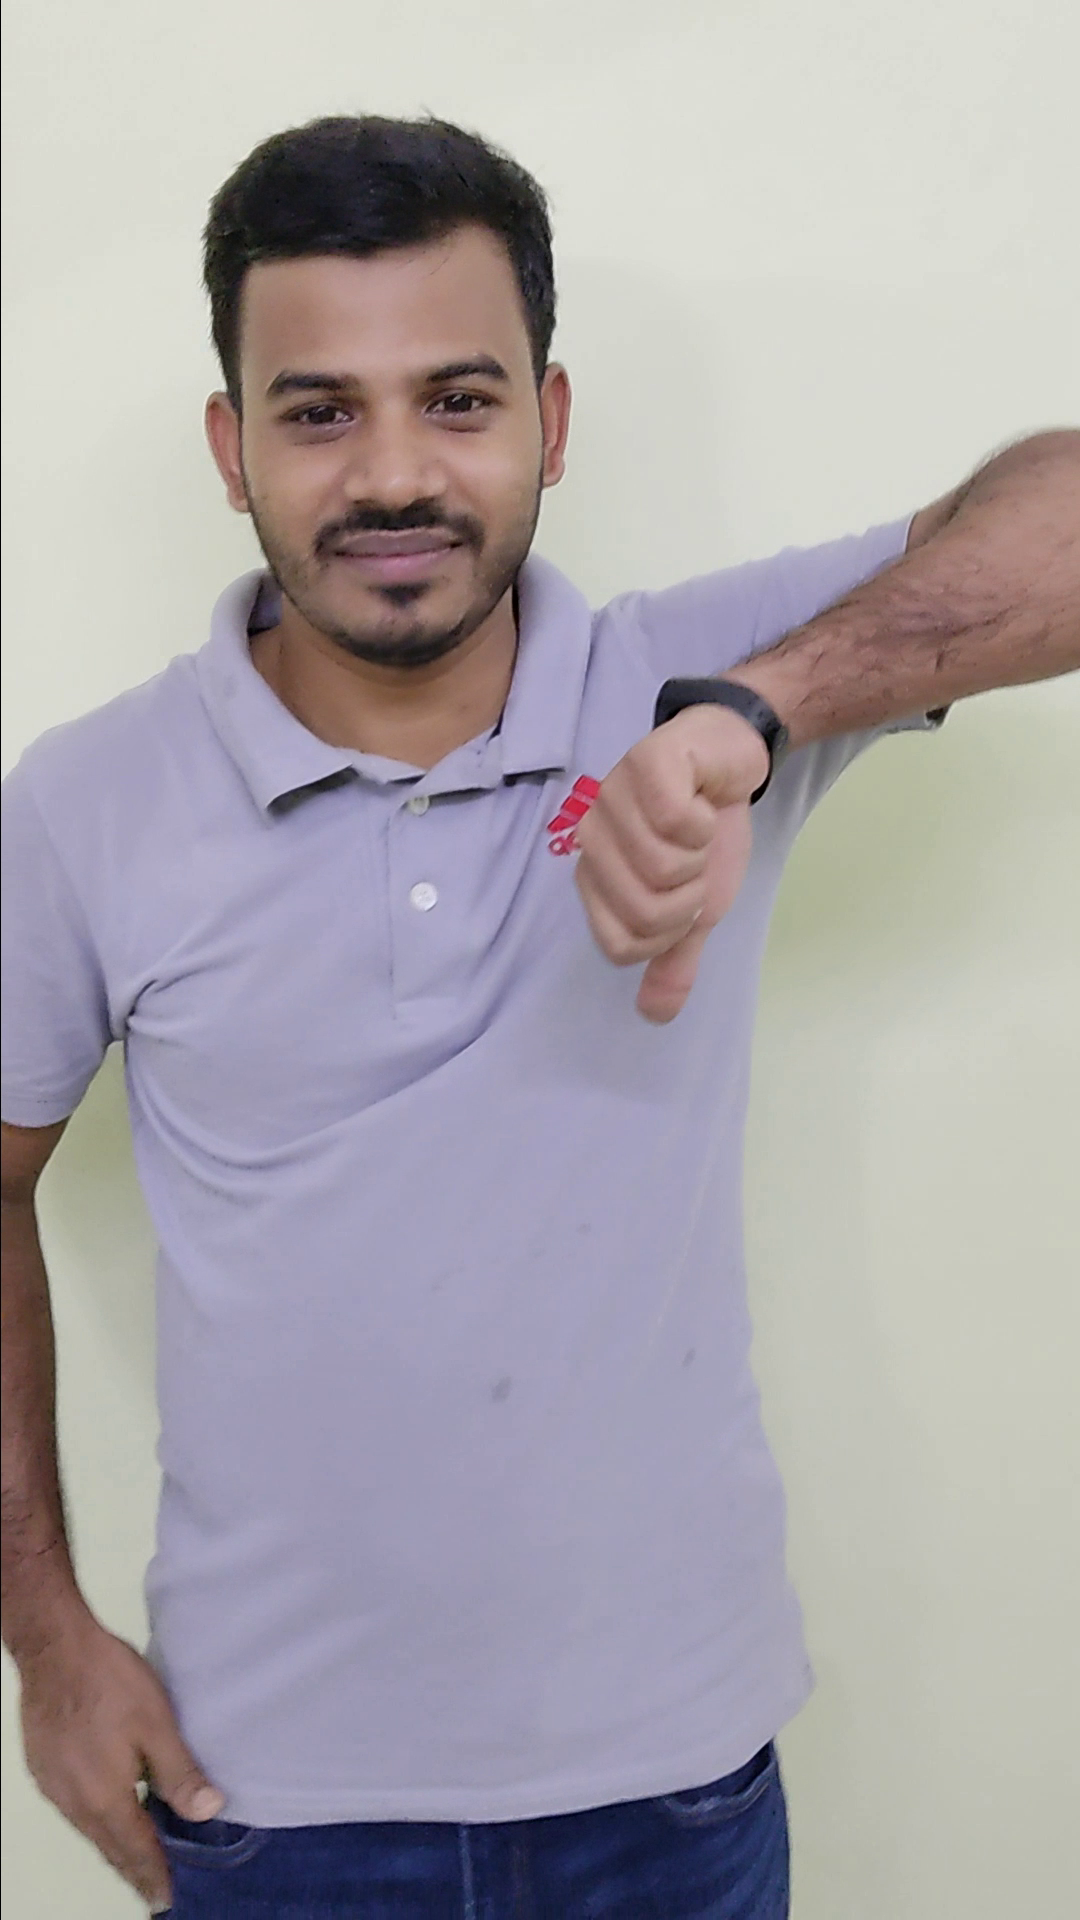Dislike: (549, 667, 777, 1040)
None: (8, 1615, 229, 1920)
